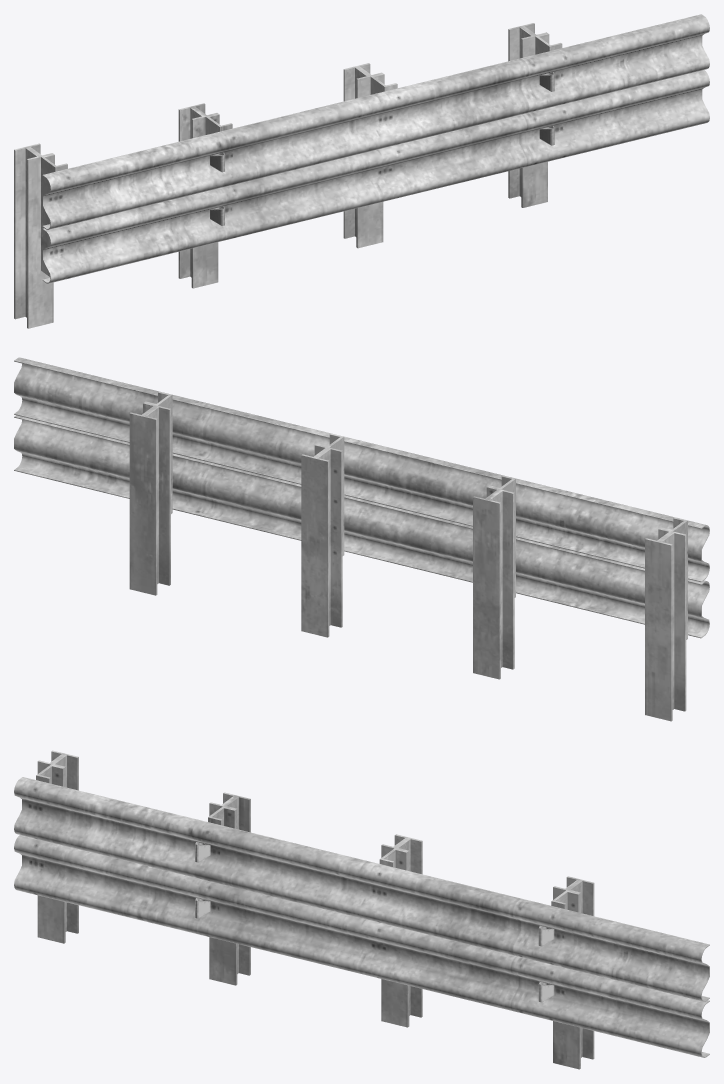
File: rail_w.glb
The picture shows the model from 3 angles, top to bottom: view 1: azimuth 30°, elevation 25°; view 2: azimuth 150°, elevation 25°; view 3: azimuth 330°, elevation 25°; orthographic projection. The views are drawn at different scales.
Parts seen in each view (by area): view 1: rail_w; view 2: rail_w; view 3: rail_w.
Boxes of the visible parts, bbox=[...] form: rail_w: bbox=[14, 14, 709, 328]; rail_w: bbox=[14, 357, 709, 721]; rail_w: bbox=[14, 750, 709, 1069].
Bounding box in the file's own units: 4 × 0.9785 × 0.3882.
1 material, 1 textured.
